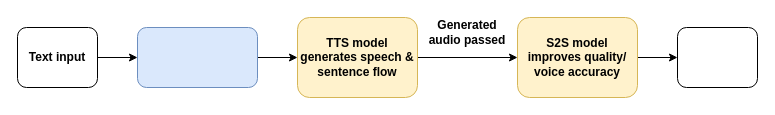
This 775x115 diagram has some shape labels left out. Here are the shapes that lost their labels. From the top down, the centre of each, then its label:
At point 197,57: "Automatic text processing/ splitting".
At point 717,57: "Audio output".
